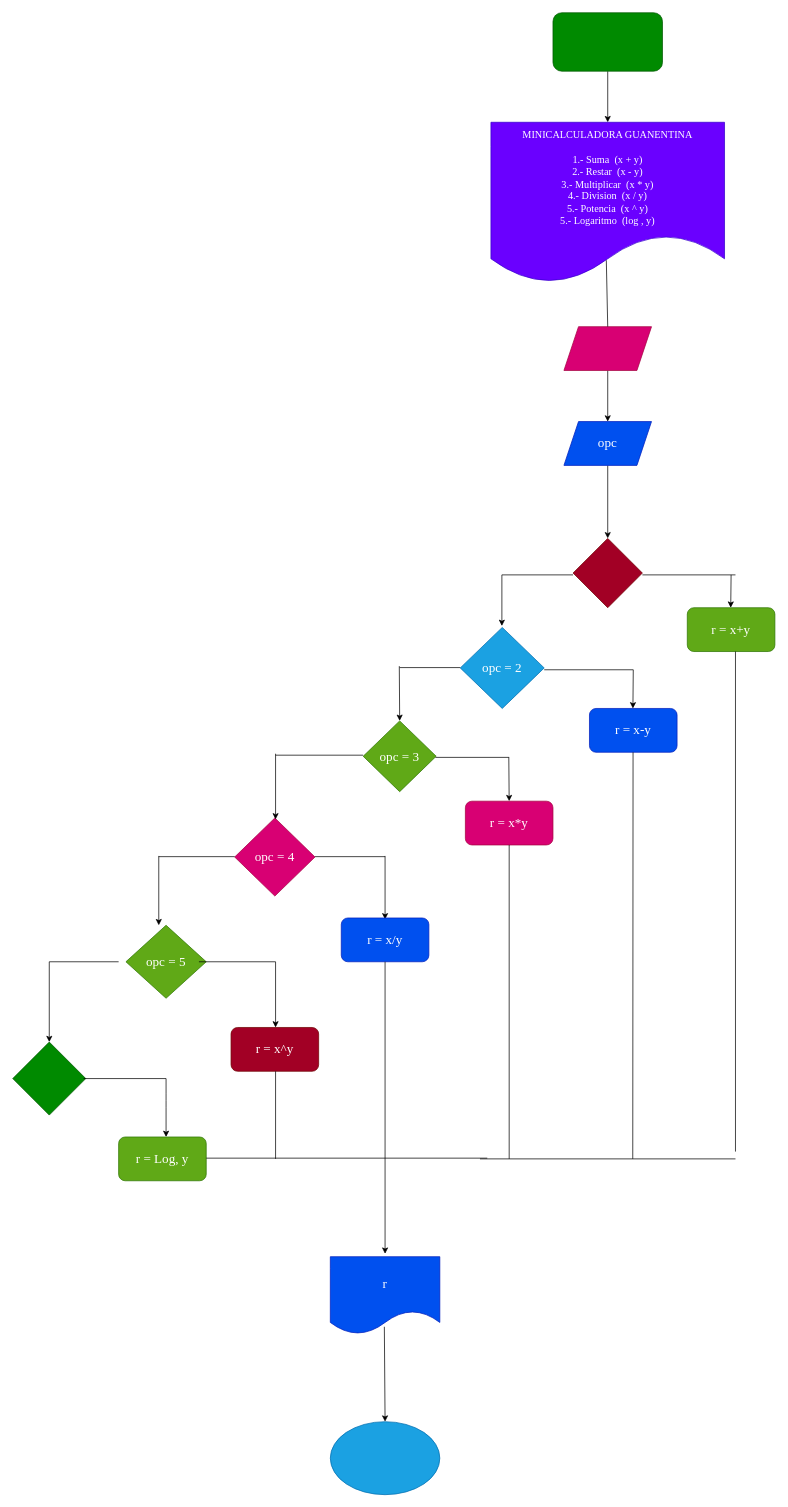
This 788x1507 diagram has some shape labels left out. The centre of each missing label's shape, as x and y in pixels:
"FIN" belongs at [385,1458].
"INICIO" belongs at [607,41].
"opc = 1" belongs at [607,573].
"opc = 6" belongs at [49,1078].
"x,y" belongs at [607,348].
